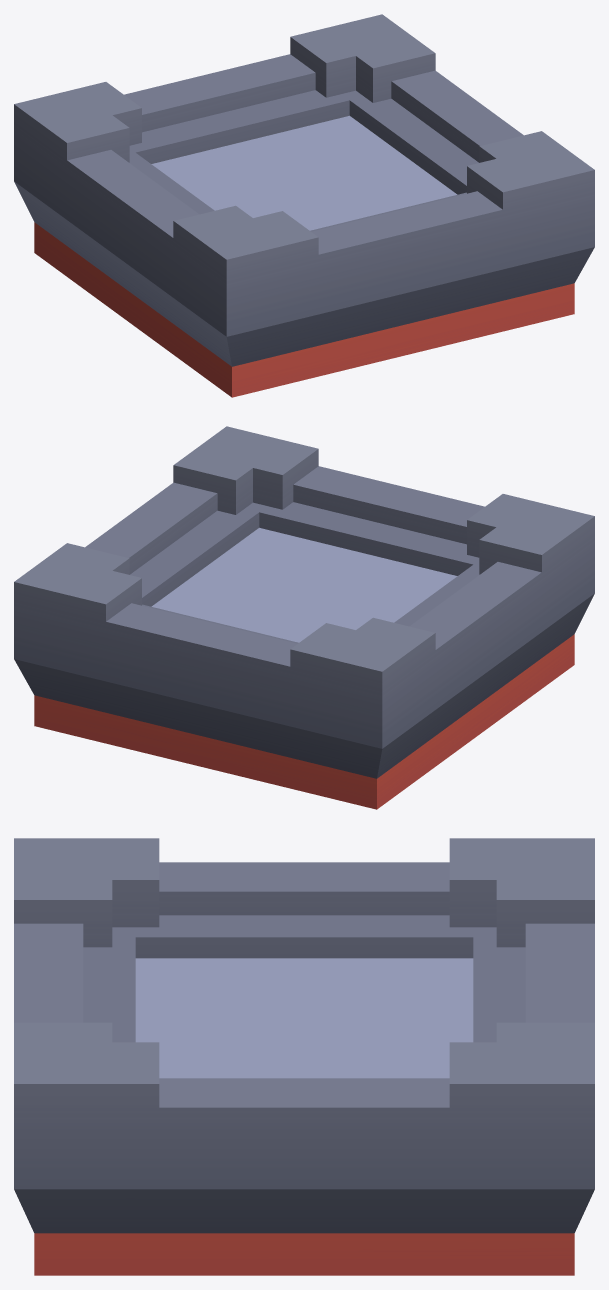
Rendered from tower-square-top-color.fbx.
3 renders of one model, top to bottom at view 1: azimuth 30°, elevation 25°; view 2: azimuth 150°, elevation 25°; view 3: azimuth 270°, elevation 25°, orthographic. The views are drawn at different scales.
Parts seen in each view (by area): view 1: tower-square-top-color; view 2: tower-square-top-color; view 3: tower-square-top-color.
Boxes of the visible parts, x1,y1,x2,y2 form: tower-square-top-color: [14, 14, 594, 397]; tower-square-top-color: [14, 426, 594, 809]; tower-square-top-color: [14, 838, 594, 1275].
Size of the model in its own units: 1 by 1 by 0.38.
